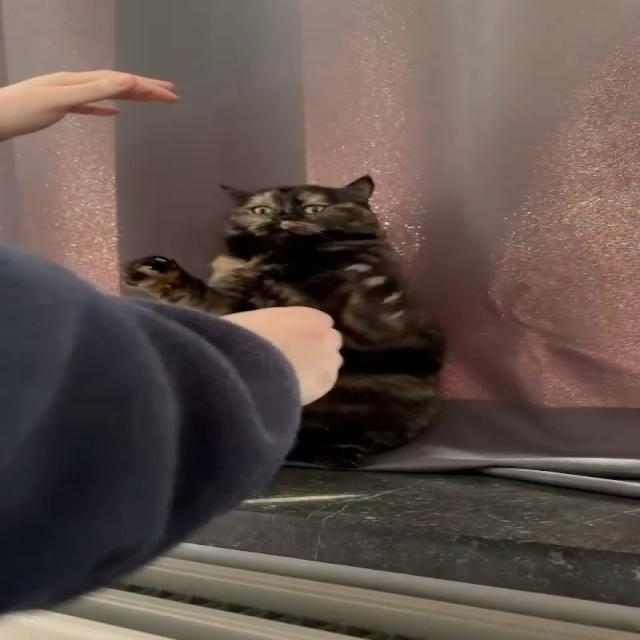authorized: (121, 173, 447, 470)
